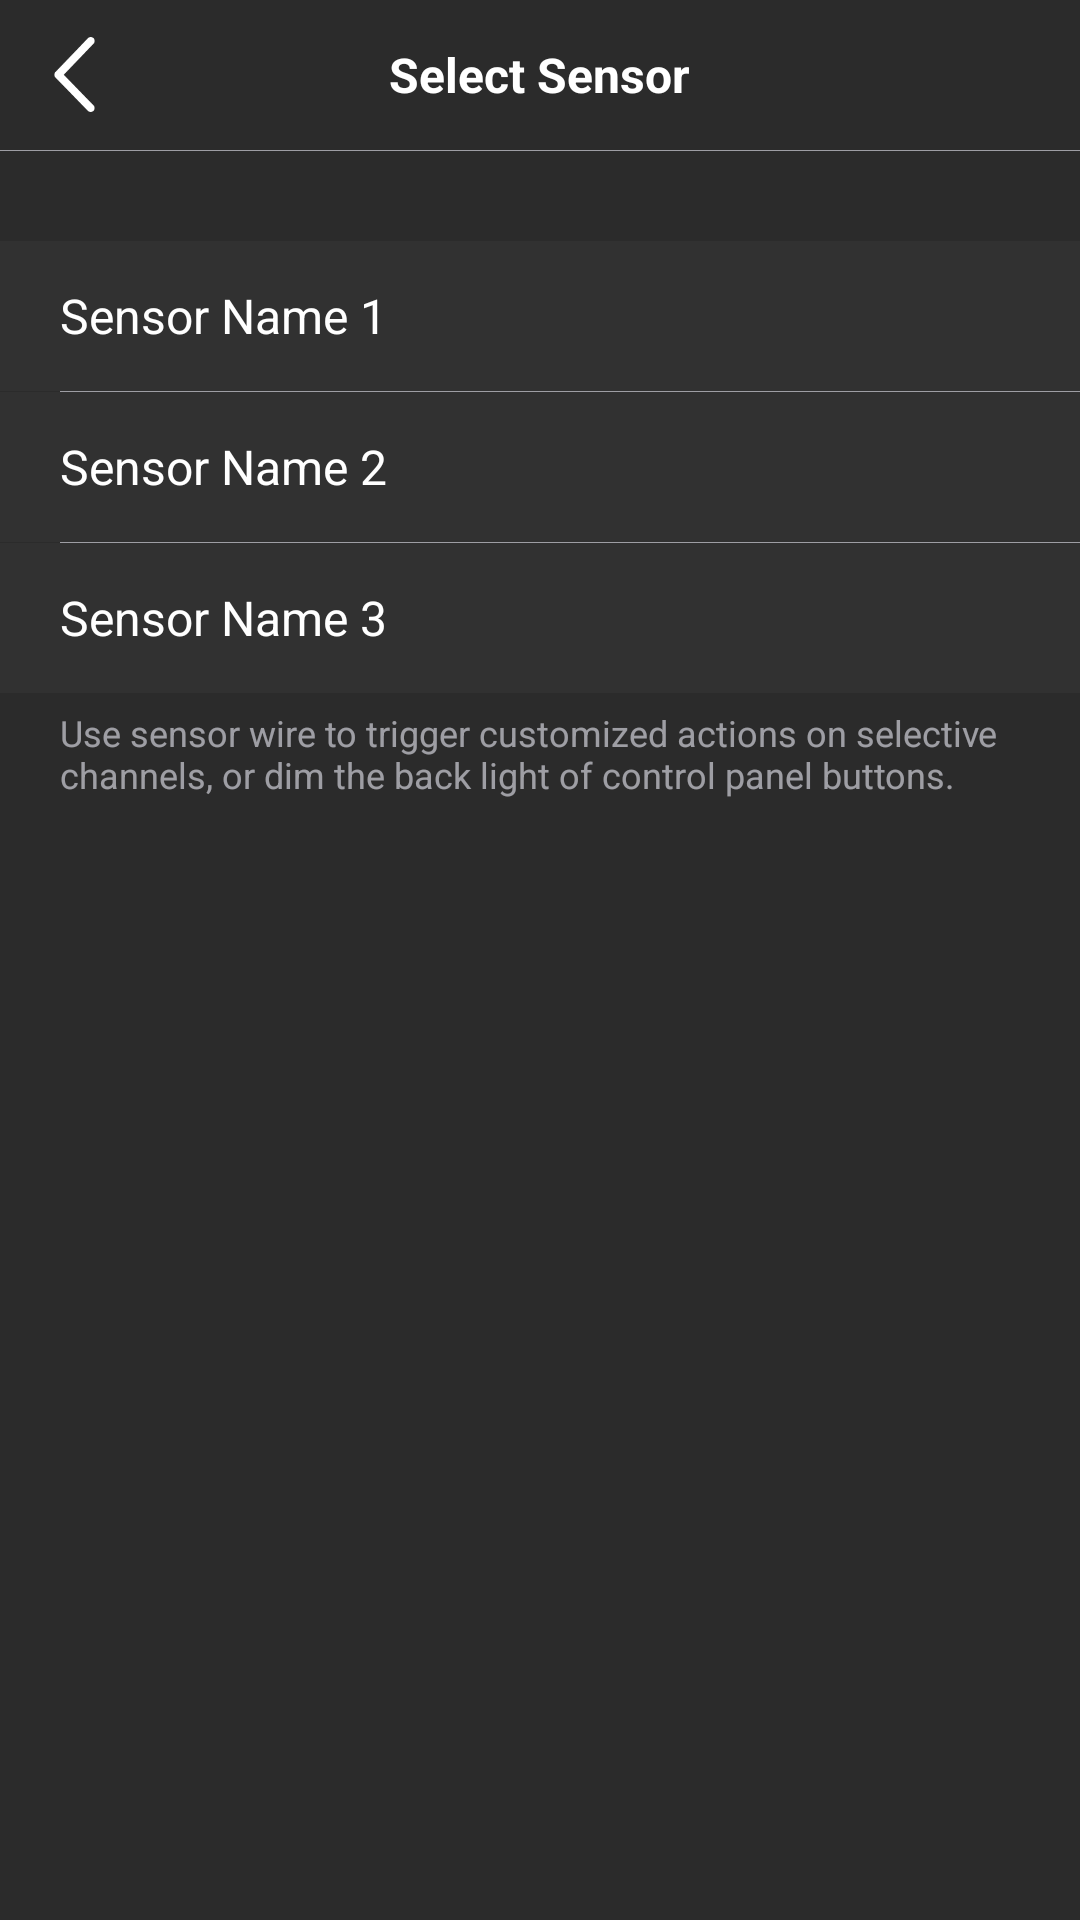

Screen size 1080*1920. Icon name, then its box in pixels as (x1, y1, x2, y2):
left arrow: (54, 37, 95, 112)
